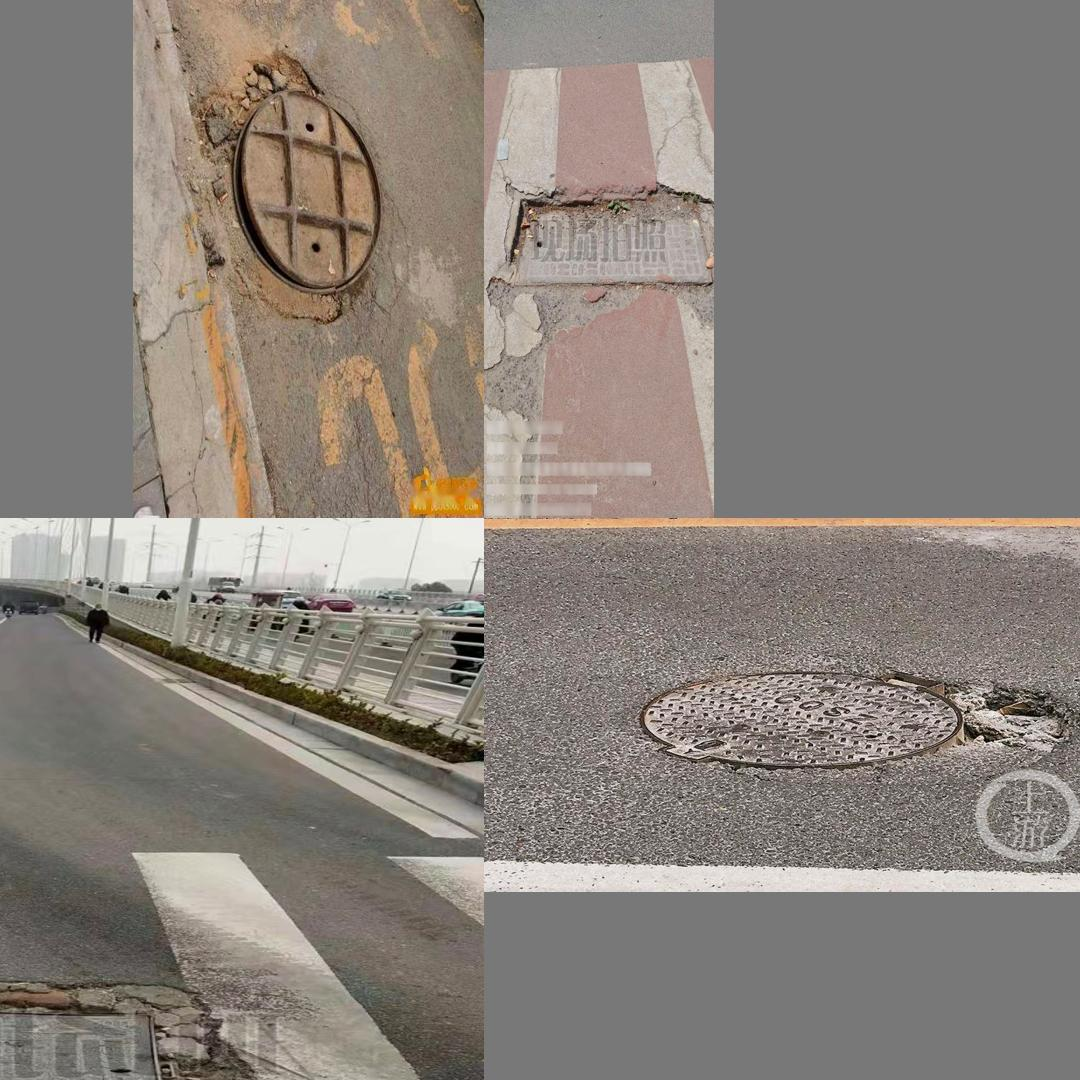circle: (172, 26, 396, 356), (633, 665, 1080, 781), (502, 193, 714, 291)
